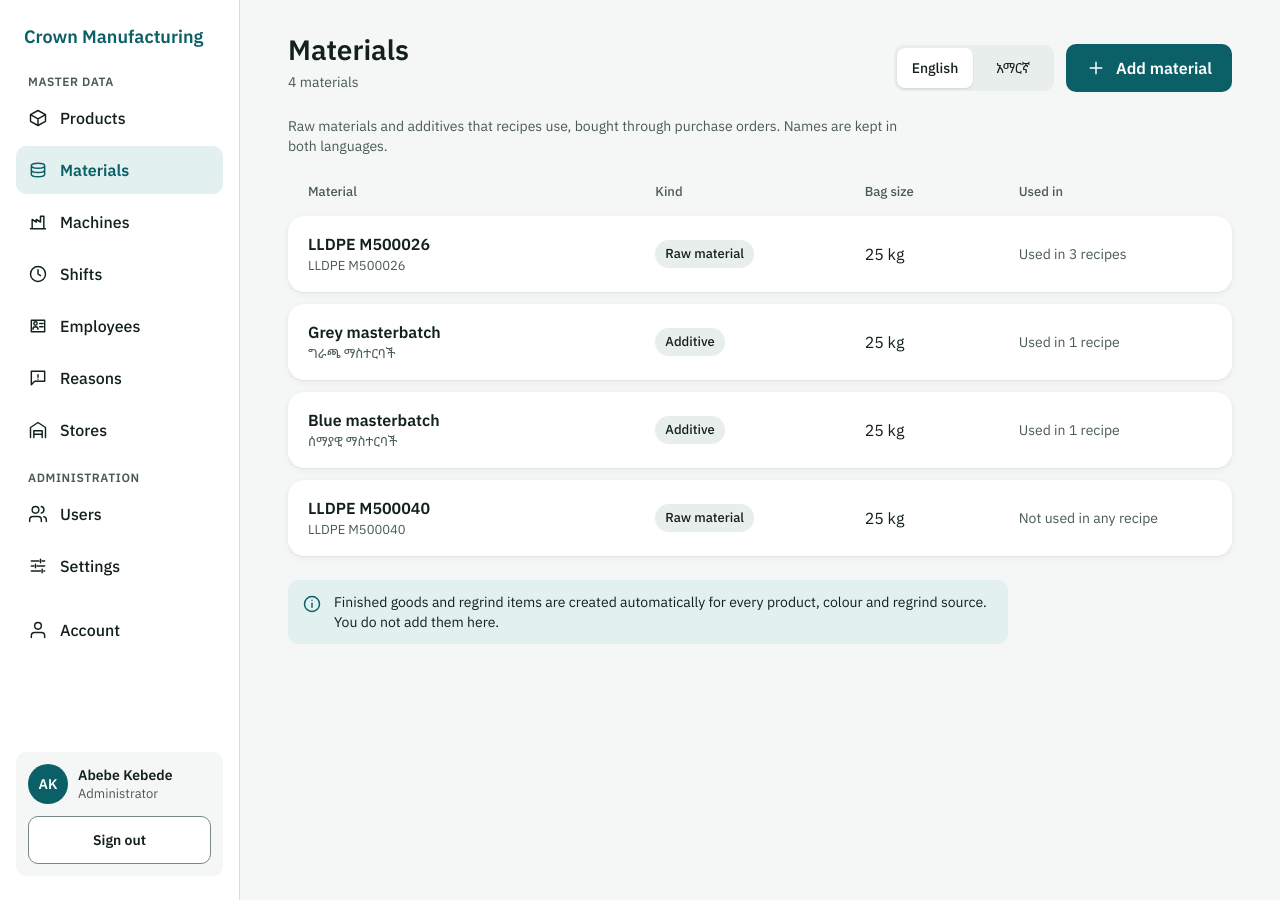
Test: Materials › edits a material: the kind is locked and Save waits for a change
Click the button with aria-label "Open Blue masterbatch" at (374, 420), box [288, 392, 1232, 468]
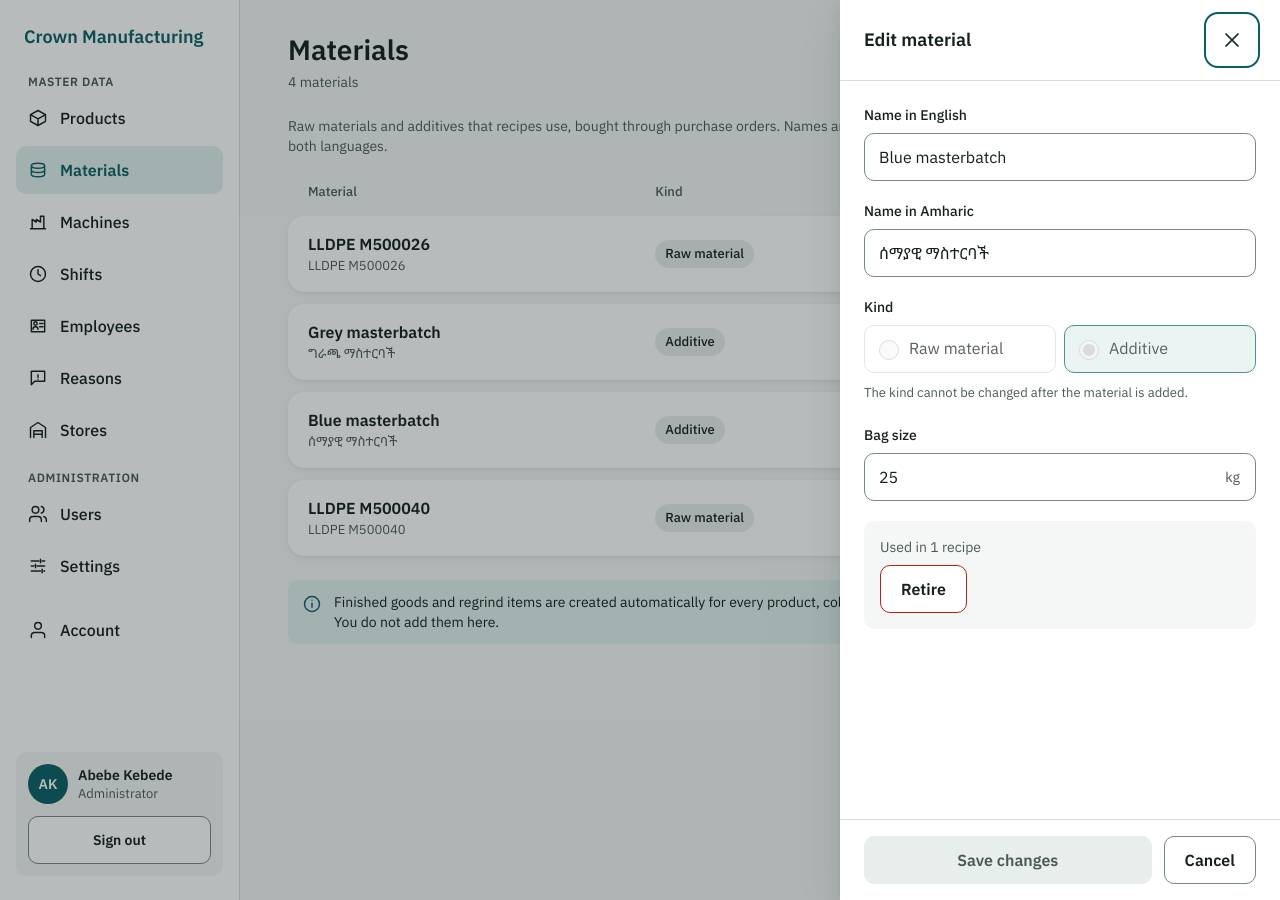
Expected: the radio button labelled "Additive" is disabled, [1079, 340, 1099, 360]
Expected: the text "The kind cannot be changed after the material is added." is shown, [864, 384, 1188, 401]
Expected: the button "Save changes" is disabled, [864, 836, 1152, 884]
Replace the text in the field labelled "Bag size" with "20" at (1060, 477), box [864, 453, 1256, 501]
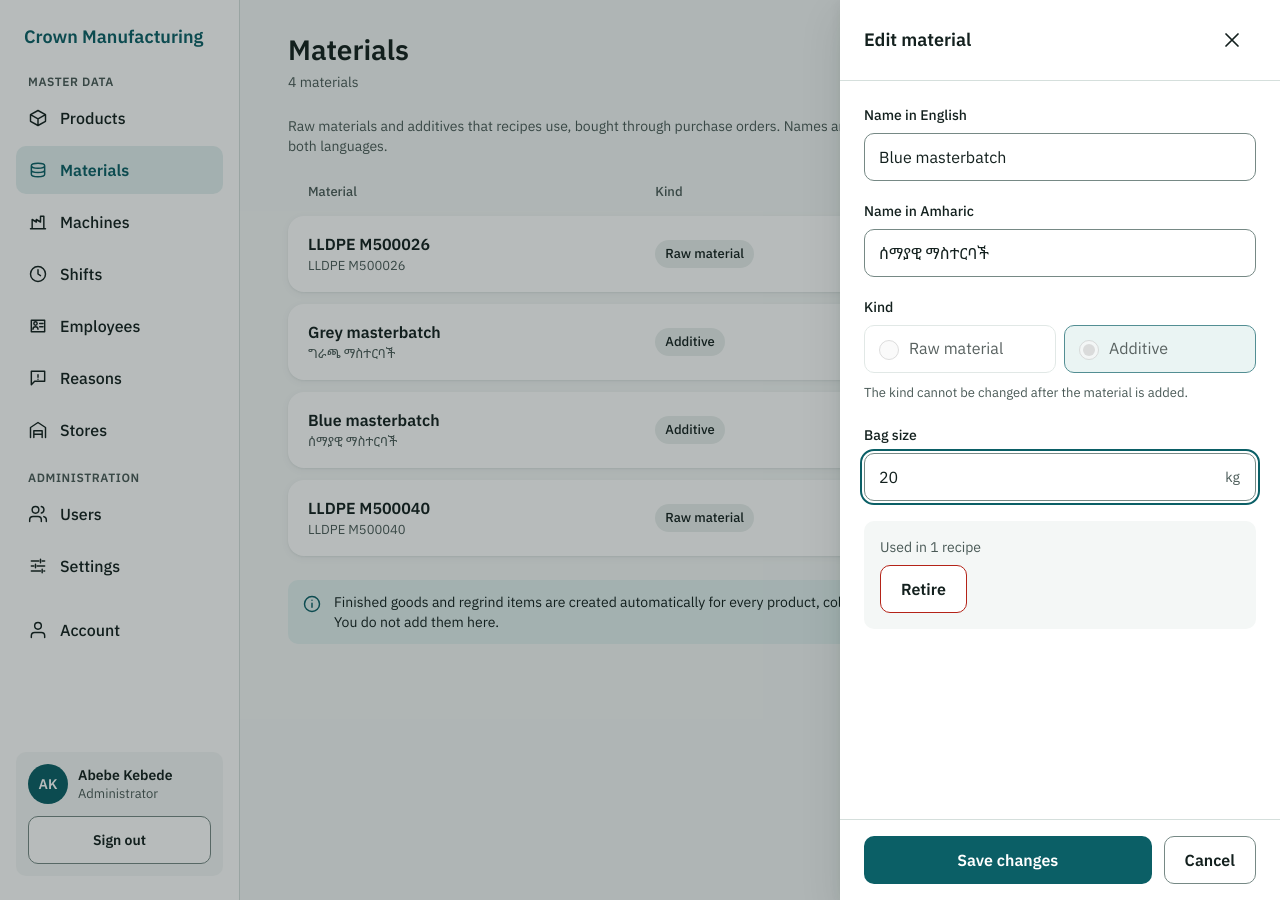
Click the button "Save changes" at (1008, 860), box [864, 836, 1152, 884]
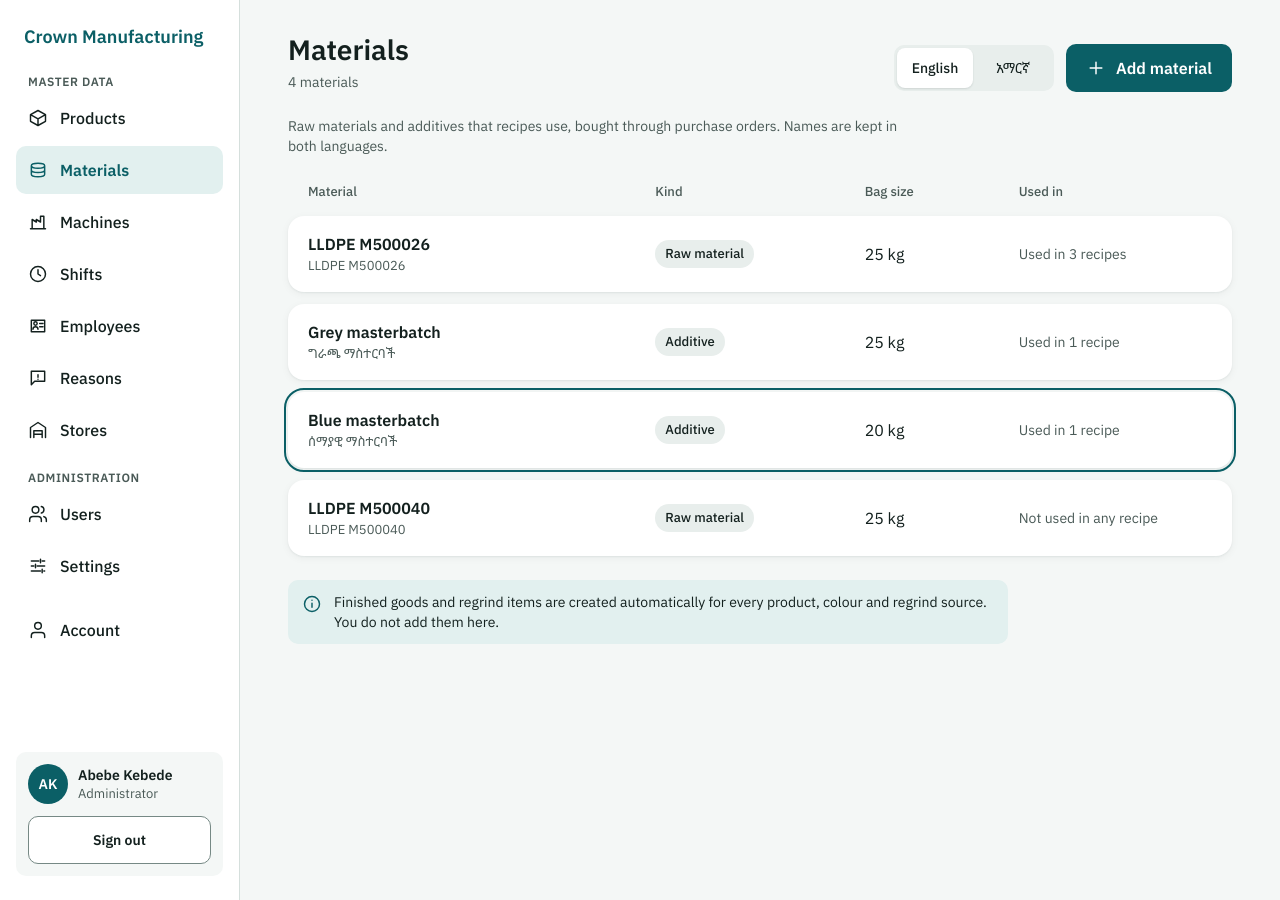
Expected: the dialog is gone
Expected: the text "20 kg" is shown, [865, 420, 904, 440]
